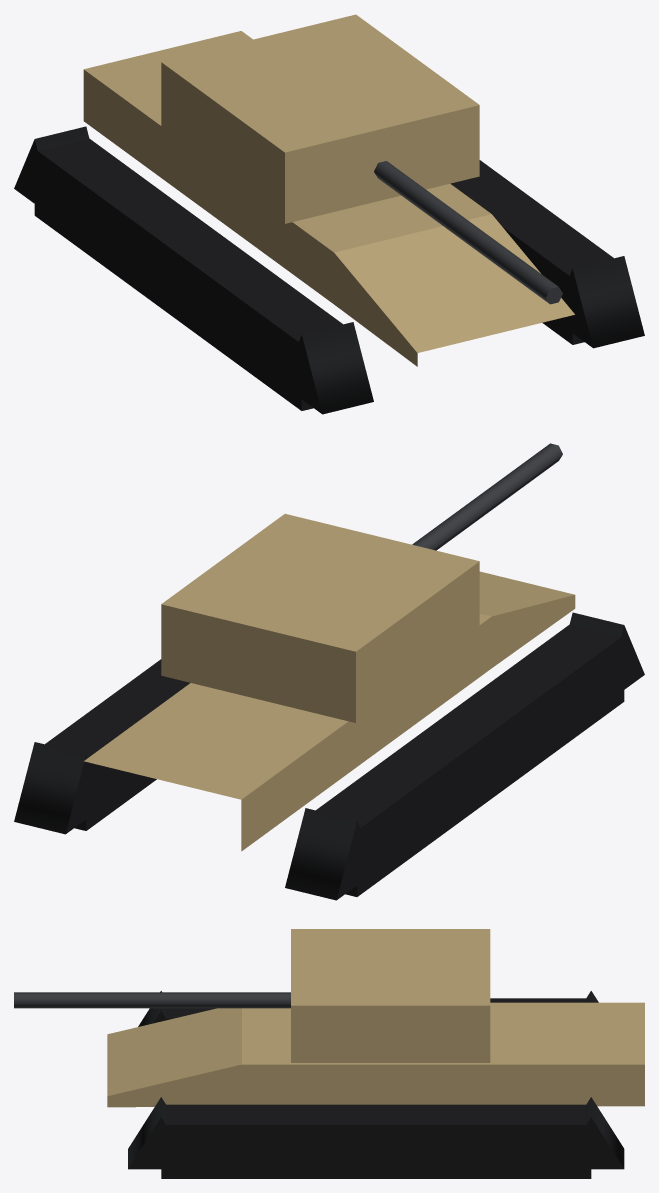
The model's file is veh_ground_tank_heavy_a07_lod2.glb.
3 renders of one model, top to bottom at view 1: azimuth 30°, elevation 25°; view 2: azimuth 150°, elevation 25°; view 3: azimuth 270°, elevation 25°, orthographic. The views are drawn at different scales.
Visible parts, largest first — view 1: turret, body, track_r, track_l; view 2: turret, track_r, body, track_l; view 3: body, track_l, turret, track_r.
Part boxes in pixels (box(x1,y1,x2,y2)): turret: box(161, 14, 562, 304); body: box(83, 31, 574, 366); track_r: box(14, 126, 373, 414); track_l: box(450, 160, 644, 348); turret: box(161, 443, 562, 722); track_r: box(285, 612, 644, 900); body: box(84, 571, 575, 851); track_l: box(14, 659, 189, 834); body: box(107, 1002, 644, 1107); track_l: box(128, 1097, 624, 1178); turret: box(14, 929, 490, 1062); track_r: box(138, 991, 598, 1026).
Size of the model in its own units: 4.14 by 2.26 by 8.71.
